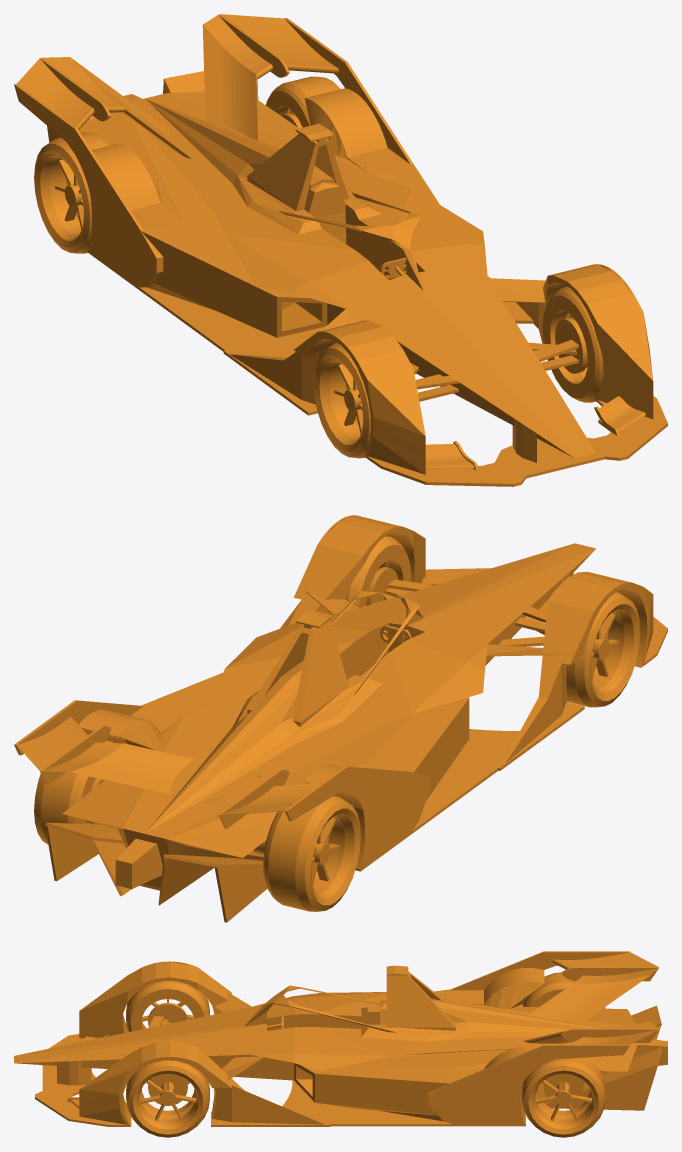
The model's file is gen4.glb.
3 renders of one model, top to bottom at view 1: azimuth 30°, elevation 25°; view 2: azimuth 150°, elevation 25°; view 3: azimuth 270°, elevation 25°, orthographic. The views are drawn at different scales.
Parts seen in each view (by area): view 1: gen4; view 2: gen4; view 3: gen4.
Part boxes in pixels (x1=…): gen4: x1=14, y1=14, x2=667, y2=486; gen4: x1=14, y1=515, x2=667, y2=922; gen4: x1=14, y1=951, x2=667, y2=1137.
Size of the model in its own units: 1.99 by 1.2 by 5.76.
